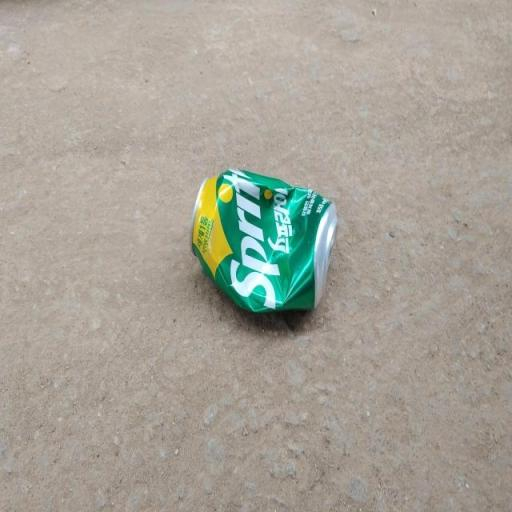metal: (180, 140, 358, 356)
